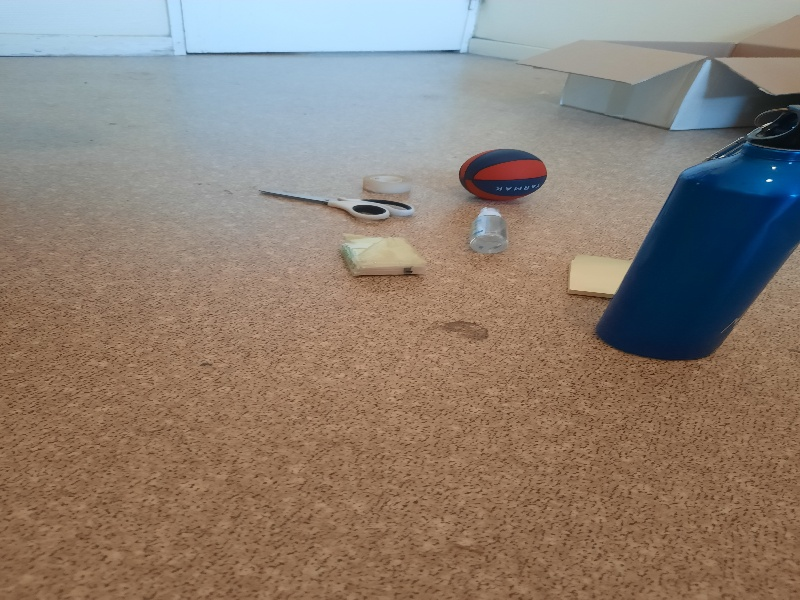ballon: (459, 149, 548, 203)
ciseaux: (252, 187, 417, 227)
gel: (471, 207, 509, 254)
gourde: (595, 106, 798, 361)
mouchoirs: (336, 237, 430, 280)
post-it: (569, 253, 635, 298)
scotch: (361, 172, 412, 194)
